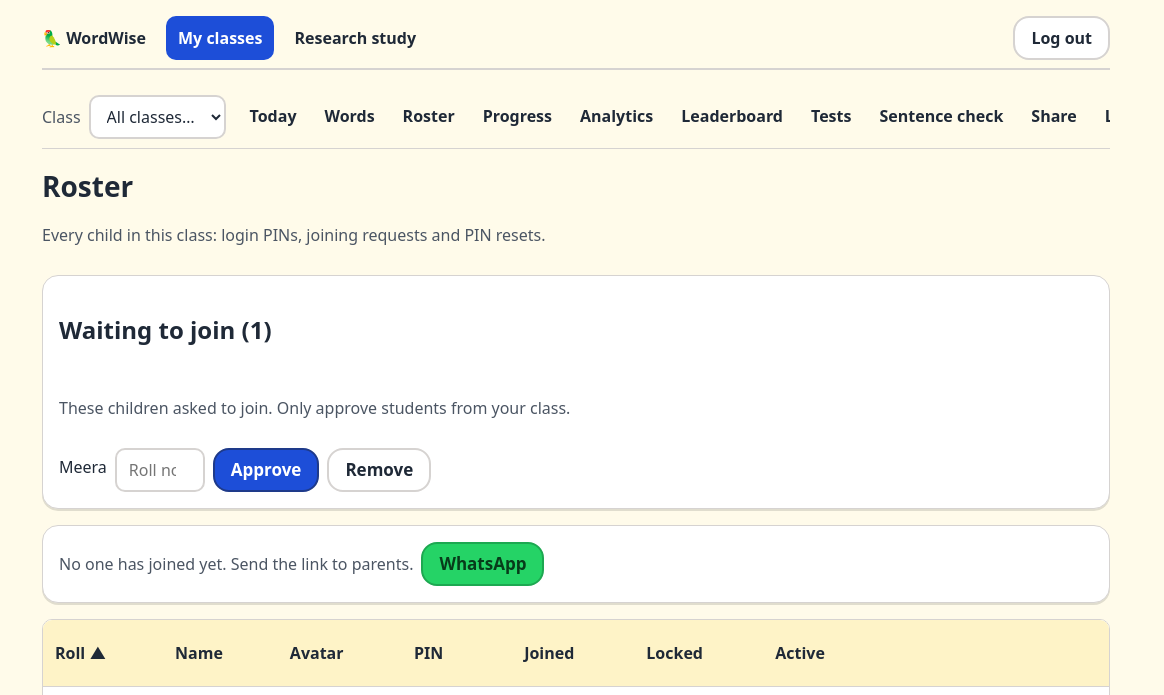
Test: Roster: Waiting to join › removes a request after confirming
Expected: the heading "Waiting to join (1)" is shown, [59,313,272,346]
Click the button "Remove".
click(379, 470)  # box [327,448,431,492]
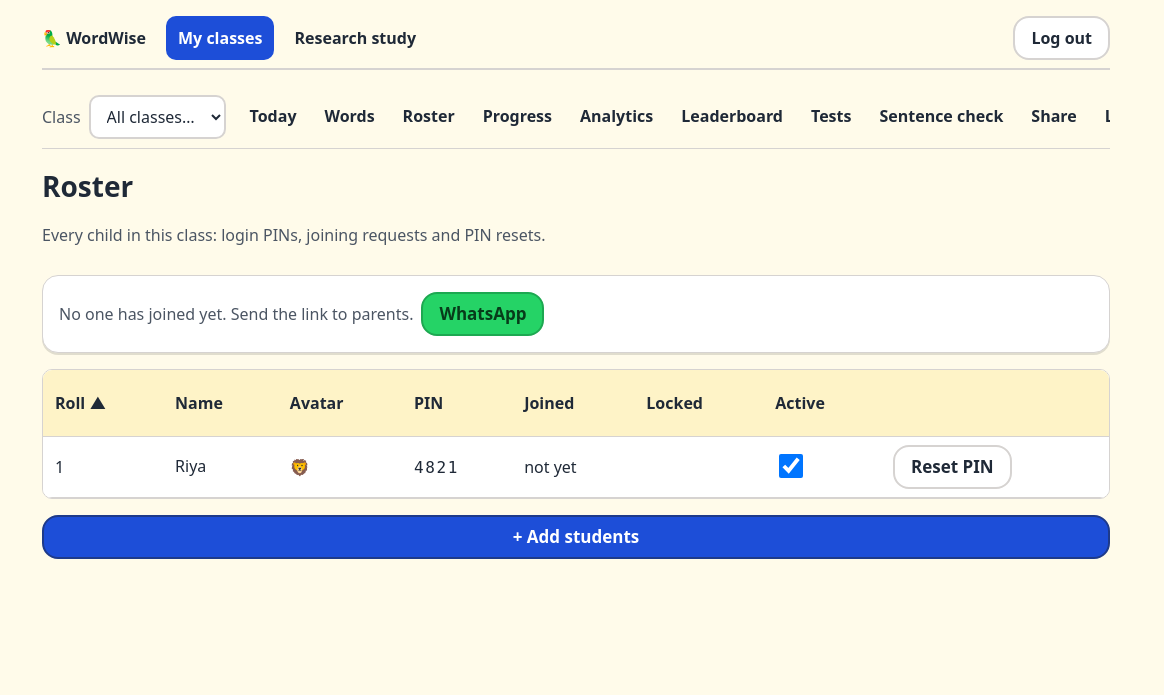
Result: the heading "Waiting to join" is gone
